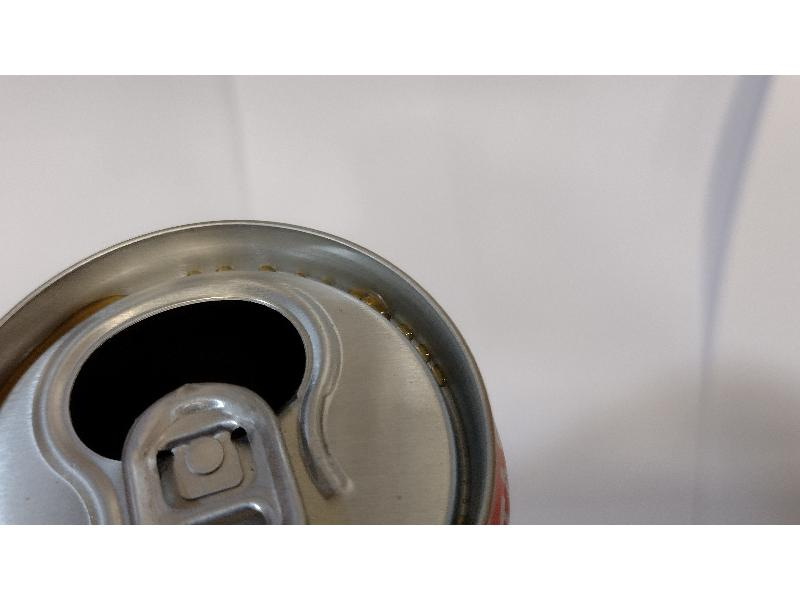can: (0, 220, 514, 521)
